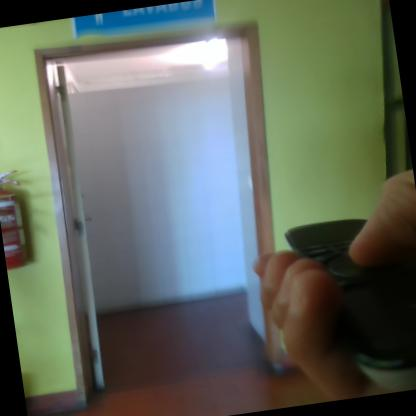open: (29, 17, 304, 390)
